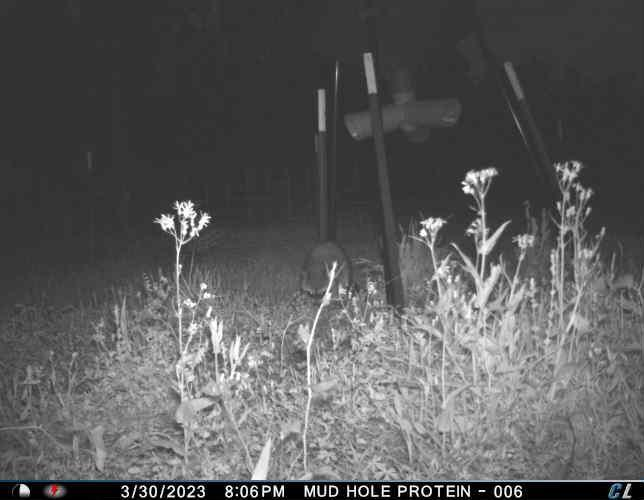Raccoon: (299, 239, 364, 305)
